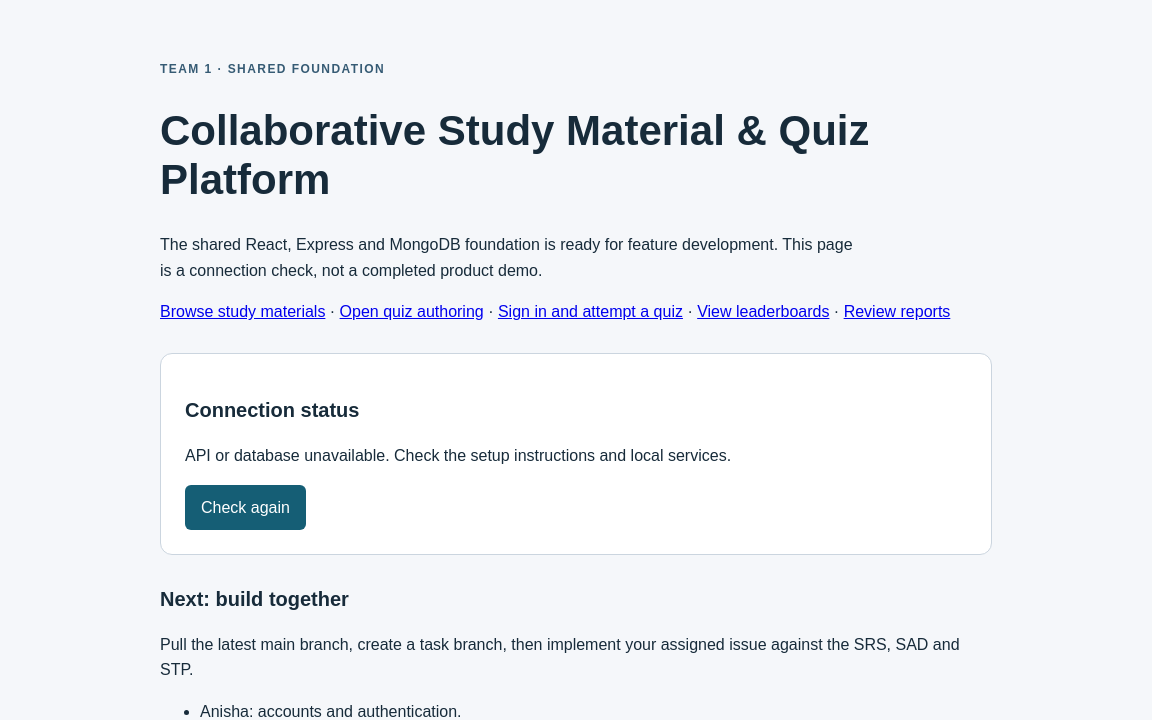
it: shows unavailable state on connection failure and can retry
Expected: the text "API or database unavailable. Check the setup instructions and local services." is shown, top-left (185, 447), bottom-right (731, 464)
Click the button "Check again" at (246, 507), box top-left (185, 485), bottom-right (306, 530)
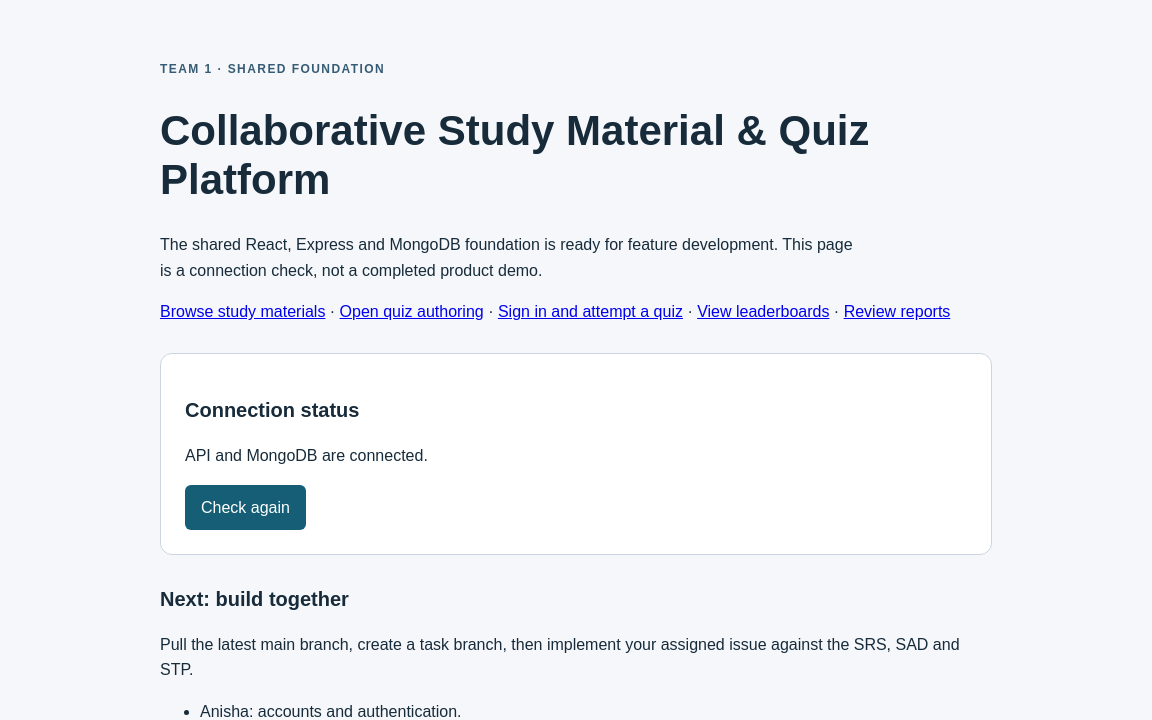
Result: the text "API and MongoDB are connected." is shown at top-left (185, 447), bottom-right (428, 464)
